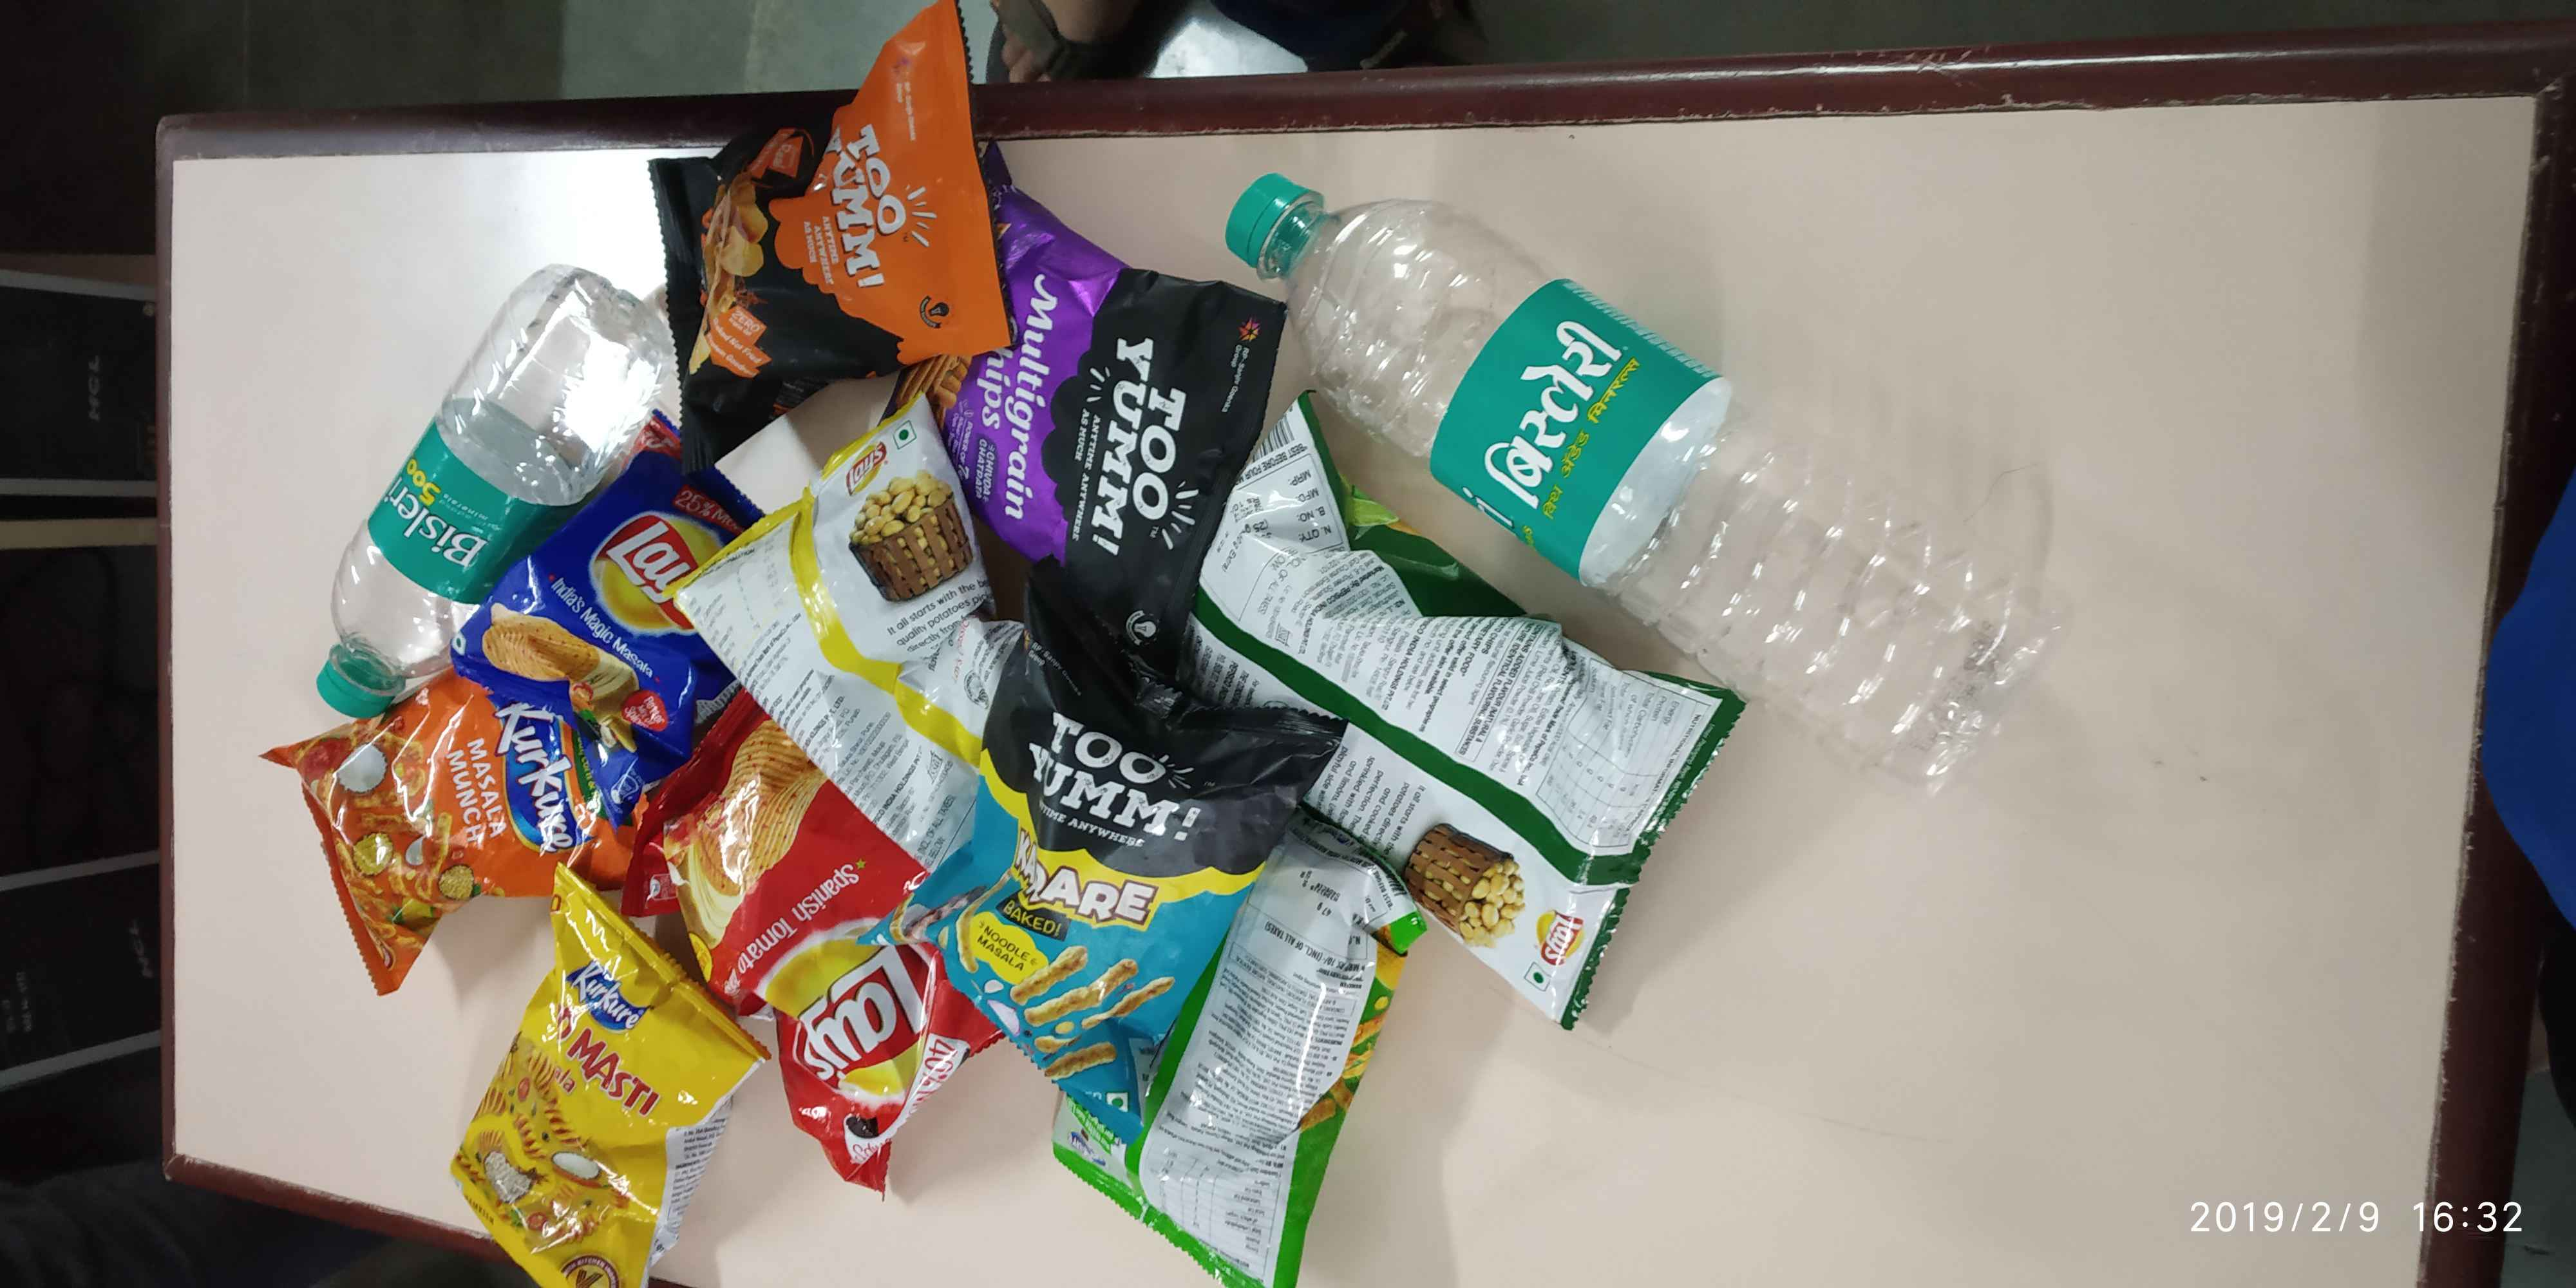Bisleri: (1442, 297, 1666, 504), (363, 434, 516, 586)
Lays: (779, 920, 940, 1114), (585, 501, 726, 636), (839, 432, 902, 519), (1531, 905, 1592, 976)
kurkure: (491, 703, 603, 871), (562, 946, 667, 1050)
tooyumm: (1000, 683, 1209, 871), (1083, 324, 1214, 582), (802, 95, 945, 299)
